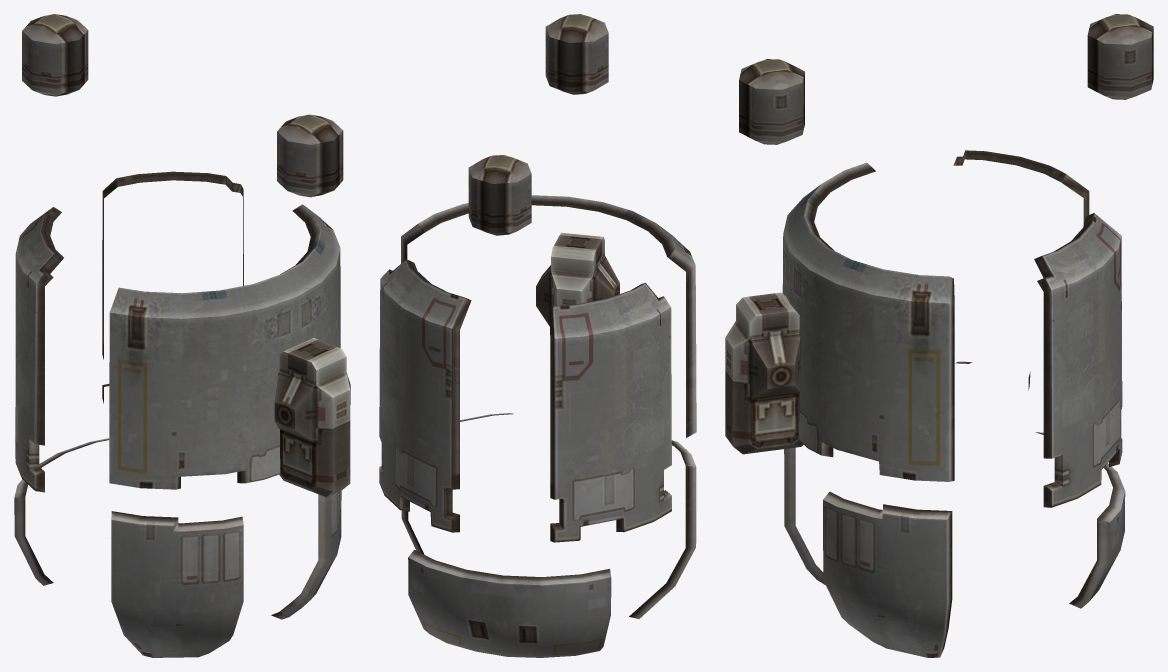
File: prop_static_tr1_container_01_08_0.glb
The picture shows the model from 3 angles, left to right: view 1: azimuth 30°, elevation 25°; view 2: azimuth 150°, elevation 25°; view 3: azimuth 270°, elevation 25°; orthographic projection. The views are drawn at different scales.
Visible parts, largest first — view 1: tr1_container_01_08_mat01b_LOD0; view 2: tr1_container_01_08_mat01b_LOD0; view 3: tr1_container_01_08_mat01b_LOD0.
Part boxes in pixels (box(x1,y1,x2,y2)): tr1_container_01_08_mat01b_LOD0: box(14, 14, 350, 657); tr1_container_01_08_mat01b_LOD0: box(379, 14, 696, 657); tr1_container_01_08_mat01b_LOD0: box(725, 14, 1153, 657).
Size of what is drawn, in the model's own units: 2.73 by 5.06 by 3.45.
1 material, 1 textured.
